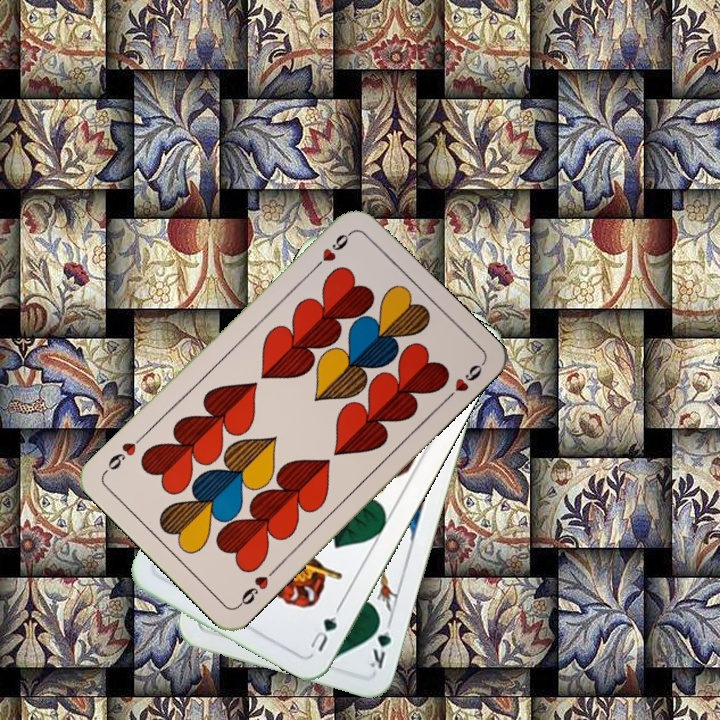GK: (364, 613, 395, 672)
GU: (304, 602, 343, 654)
H9: (233, 564, 280, 610), (308, 228, 354, 274)
